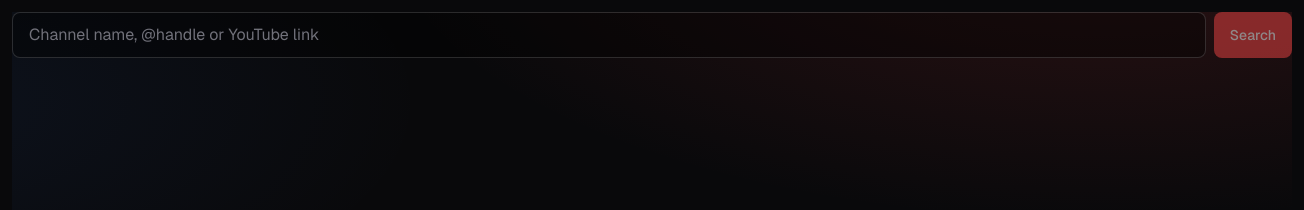
Test: SearchBox › hides excluded channels
The image size is (1304, 210).
Type "lab" into the field at (609, 35), box [12,12,1206,58]
Then press Enter
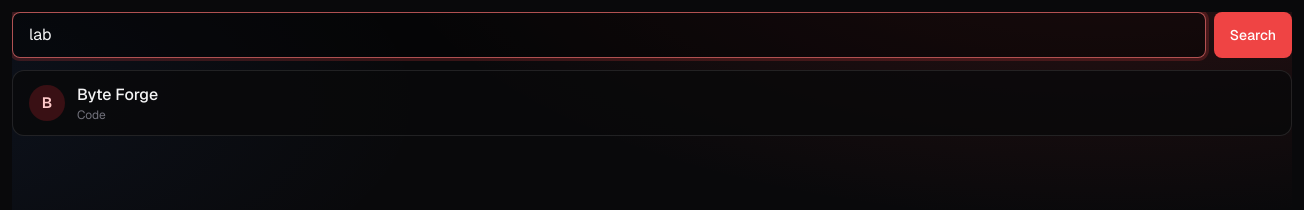
Result: the text "Byte Forge" is shown at [77,83,158,107]
